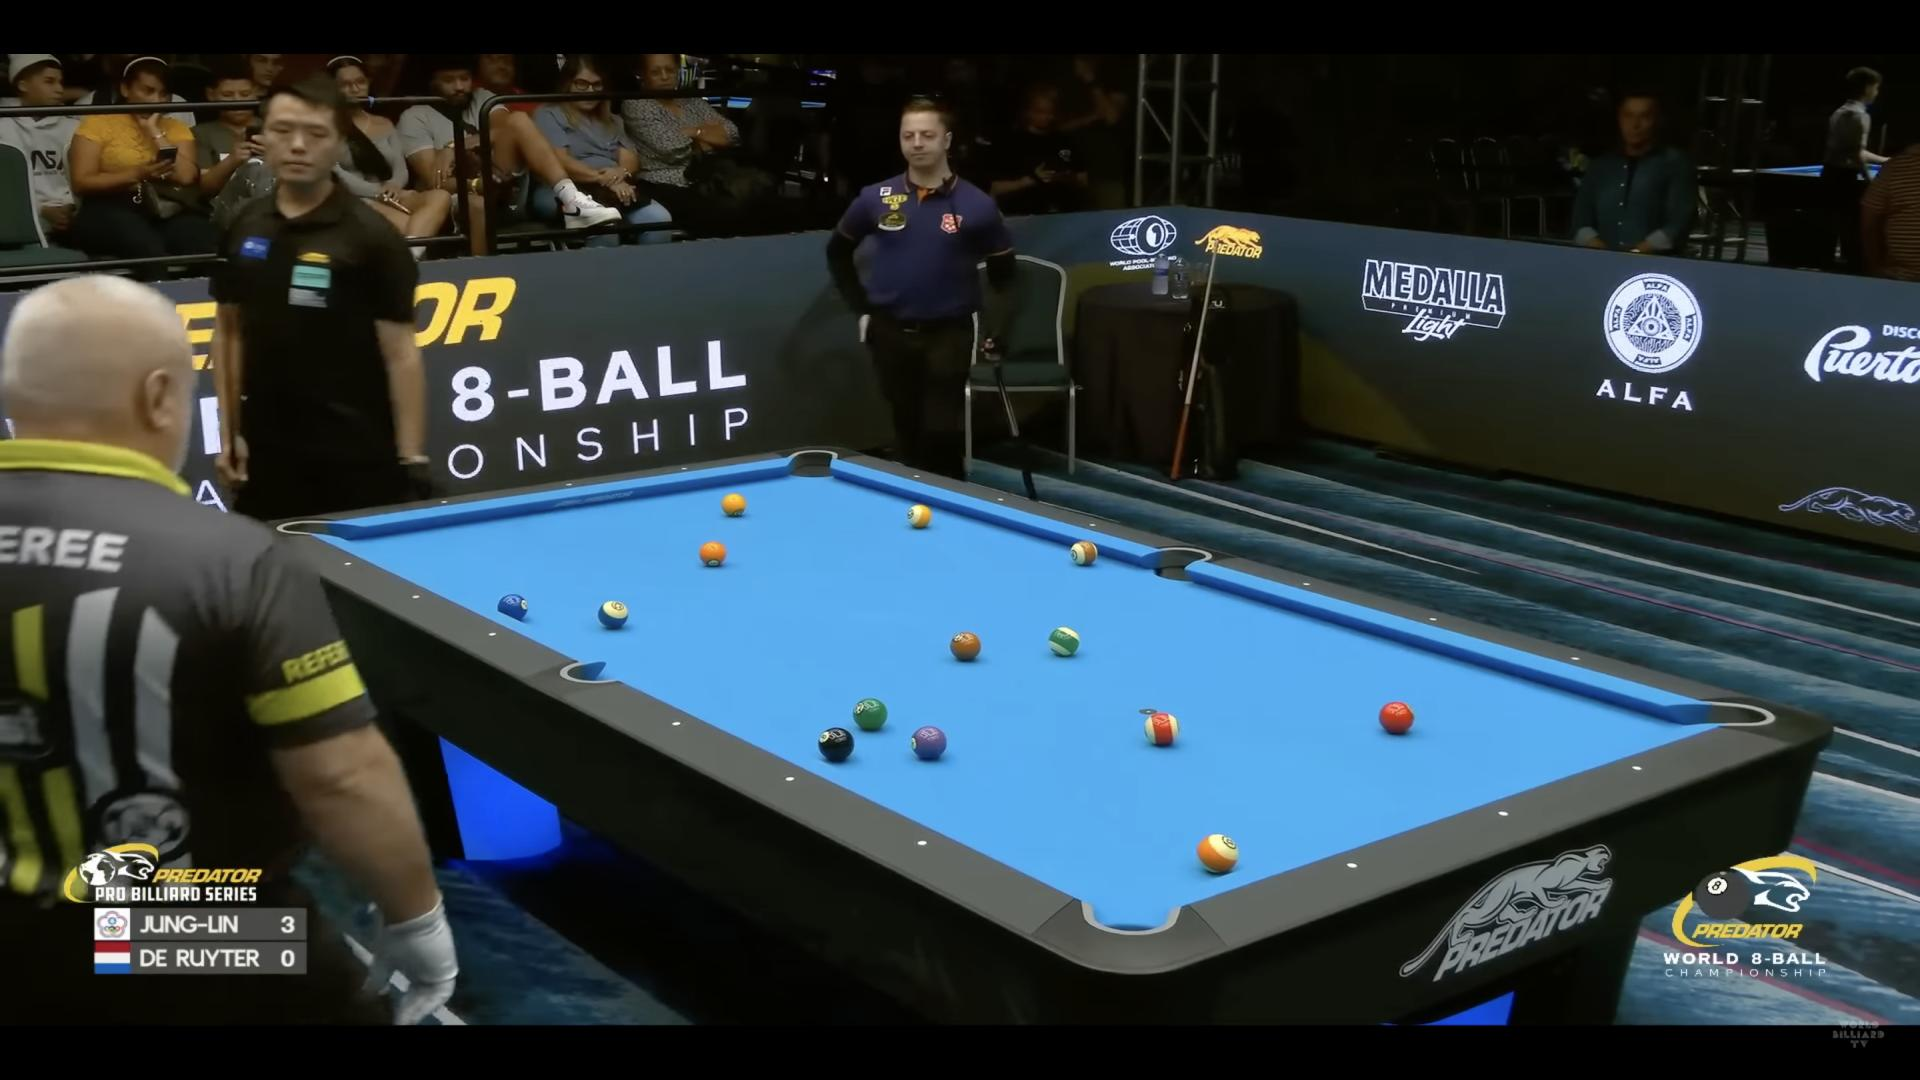Black: (818, 727, 855, 761)
Dot: (1344, 857, 1360, 872), (1495, 807, 1511, 822), (1629, 761, 1644, 775), (916, 837, 931, 849), (669, 717, 682, 729), (783, 773, 796, 785), (487, 629, 498, 640), (343, 558, 353, 568), (410, 592, 421, 601), (679, 464, 688, 472), (564, 480, 574, 488), (439, 497, 448, 505), (1572, 655, 1580, 662), (1428, 616, 1436, 622), (1303, 582, 1311, 588), (914, 473, 920, 480), (1089, 522, 1096, 527), (997, 497, 1004, 502)
Solid: (910, 727, 947, 760), (852, 698, 887, 731), (1378, 702, 1415, 733), (949, 632, 981, 661), (497, 593, 527, 620), (699, 541, 727, 566), (721, 493, 746, 516)
Striped: (1196, 833, 1238, 873), (1145, 712, 1179, 745), (1048, 626, 1080, 655), (597, 601, 629, 628), (1071, 541, 1097, 564), (907, 504, 931, 527)
